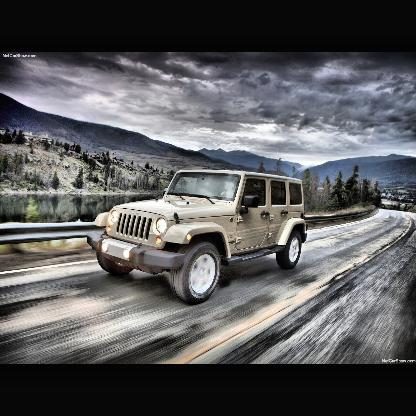Jeep Wrangler SUV 2012: (84, 166, 314, 308)
